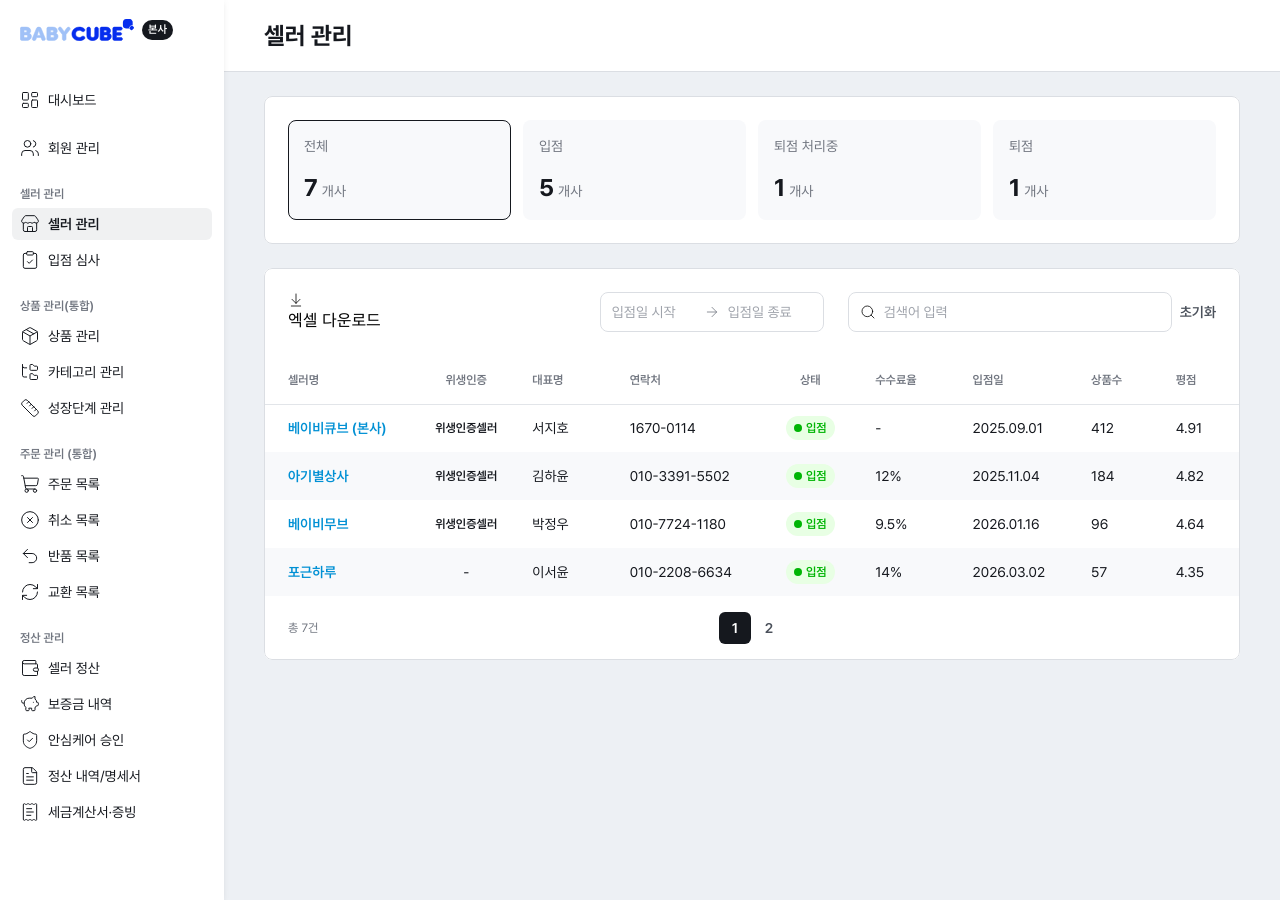
SellerListPage (S03 셀러 관리) › 목록 › 퇴점일 열은 퇴점 필터를 걸어야 나온다
The image size is (1280, 900).
expect the column heading "퇴점일" is not shown: met
Click the button with aria-label "퇴점 1개사": (1104, 170) [993,120,1216,220]
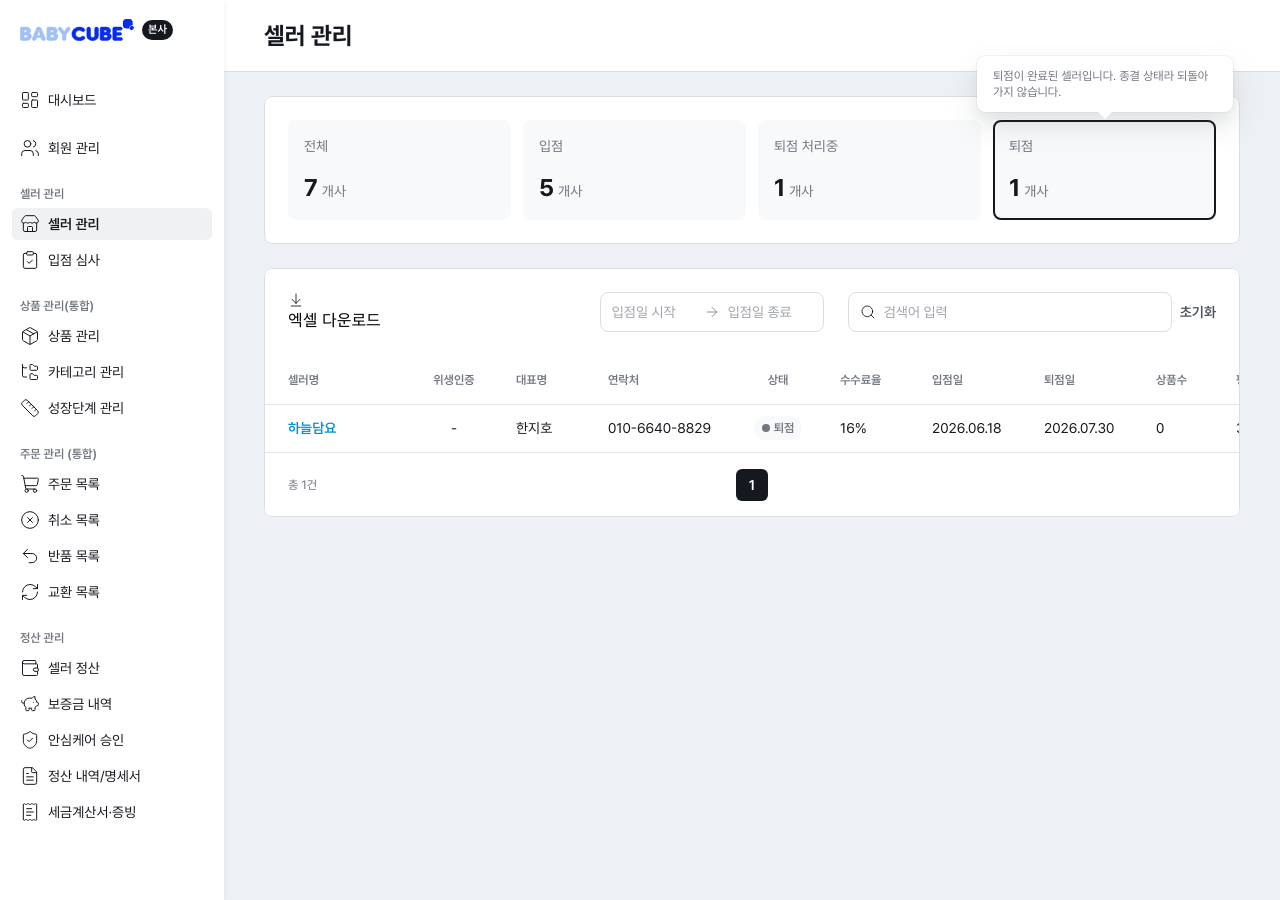
expect the column heading "퇴점일" is shown: met, box [1032,356,1144,404]
expect the cell "2026.07.30" is shown: met, box [1032,404,1144,452]
